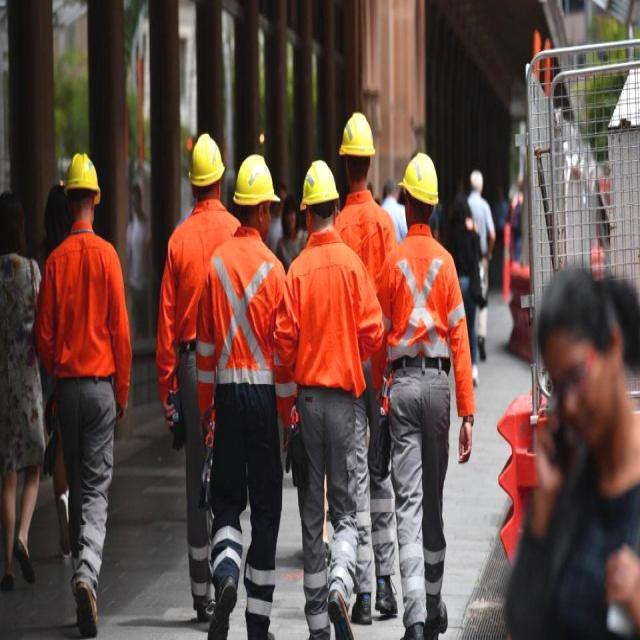face_nomask: (558, 335, 615, 448)
head_helmet: (233, 153, 280, 207), (398, 152, 440, 206), (189, 133, 226, 188), (63, 150, 102, 202), (302, 159, 340, 212), (339, 109, 376, 158)
person: (509, 271, 639, 632), (278, 166, 373, 633), (43, 153, 127, 638), (383, 153, 466, 638), (201, 153, 282, 639), (156, 130, 235, 612), (1, 188, 42, 592), (336, 111, 396, 280), (468, 167, 495, 354)
